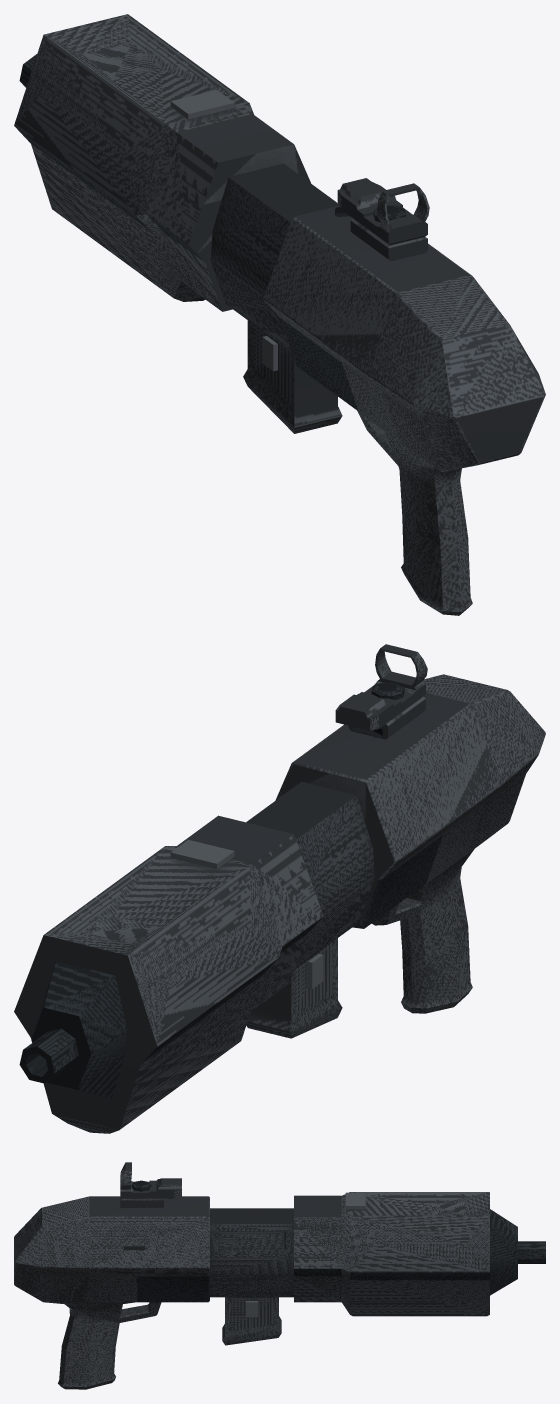
The model's file is carbine.glb.
3 renders of one model, top to bottom at view 1: azimuth 30°, elevation 25°; view 2: azimuth 150°, elevation 25°; view 3: azimuth 270°, elevation 25°, orthographic. The views are drawn at different scales.
Visible parts, largest first — view 1: carbine, InsertedAmmo; view 2: carbine; view 3: carbine, InsertedAmmo.
Boxes of the visible parts, x1=… form: carbine: x1=14, y1=14, x2=545, y2=615; InsertedAmmo: x1=251, y1=353, x2=340, y2=431; carbine: x1=14, y1=644, x2=545, y2=1133; carbine: x1=14, y1=1162, x2=545, y2=1389; InsertedAmmo: x1=222, y1=1318, x2=281, y2=1345.
Bounding box in the file's own units: 0.136 × 0.347 × 0.76.
1 material, 1 textured.
